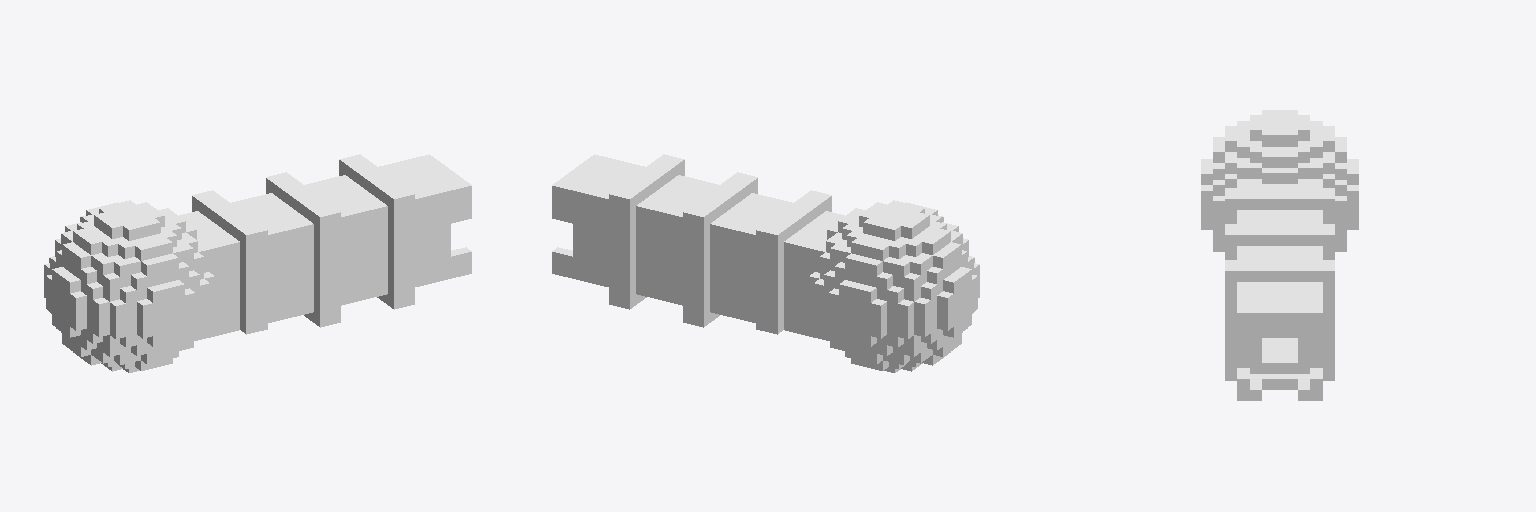
The model's file is turret.vox-0.obj.
The picture shows the model from 3 angles: view 1: azimuth 30°, elevation 25°; view 2: azimuth 150°, elevation 25°; view 3: azimuth 270°, elevation 25°; orthographic projection.
Visible parts, largest first — view 1: object 1; view 2: object 1; view 3: object 1.
Boxes of the visible parts, <box> form: object 1: <box>44,154,471,372</box>; object 1: <box>552,154,979,372</box>; object 1: <box>1201,110,1358,400</box>.
Bounding box in the file's own units: 3.7 × 1.3 × 1.3.